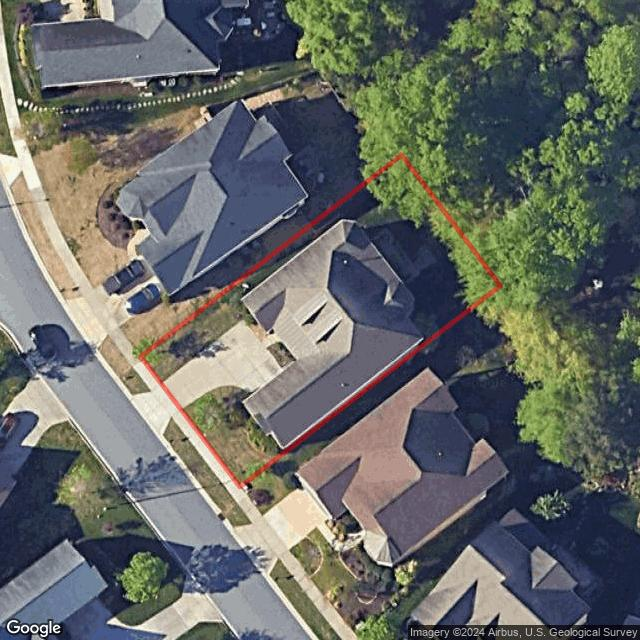Driveway: (161, 319, 285, 410)
Extra-Driveway: (133, 386, 182, 435)
Extra-Lawn: (164, 418, 231, 506), (117, 365, 150, 394)
Extra-Sidewalk: (171, 411, 240, 496), (129, 357, 162, 392)
House: (239, 218, 428, 450)
Lawn: (139, 155, 500, 487)
Other: (227, 391, 283, 454), (230, 289, 271, 341), (268, 341, 296, 369)
Sidewalk: (261, 332, 279, 347)
